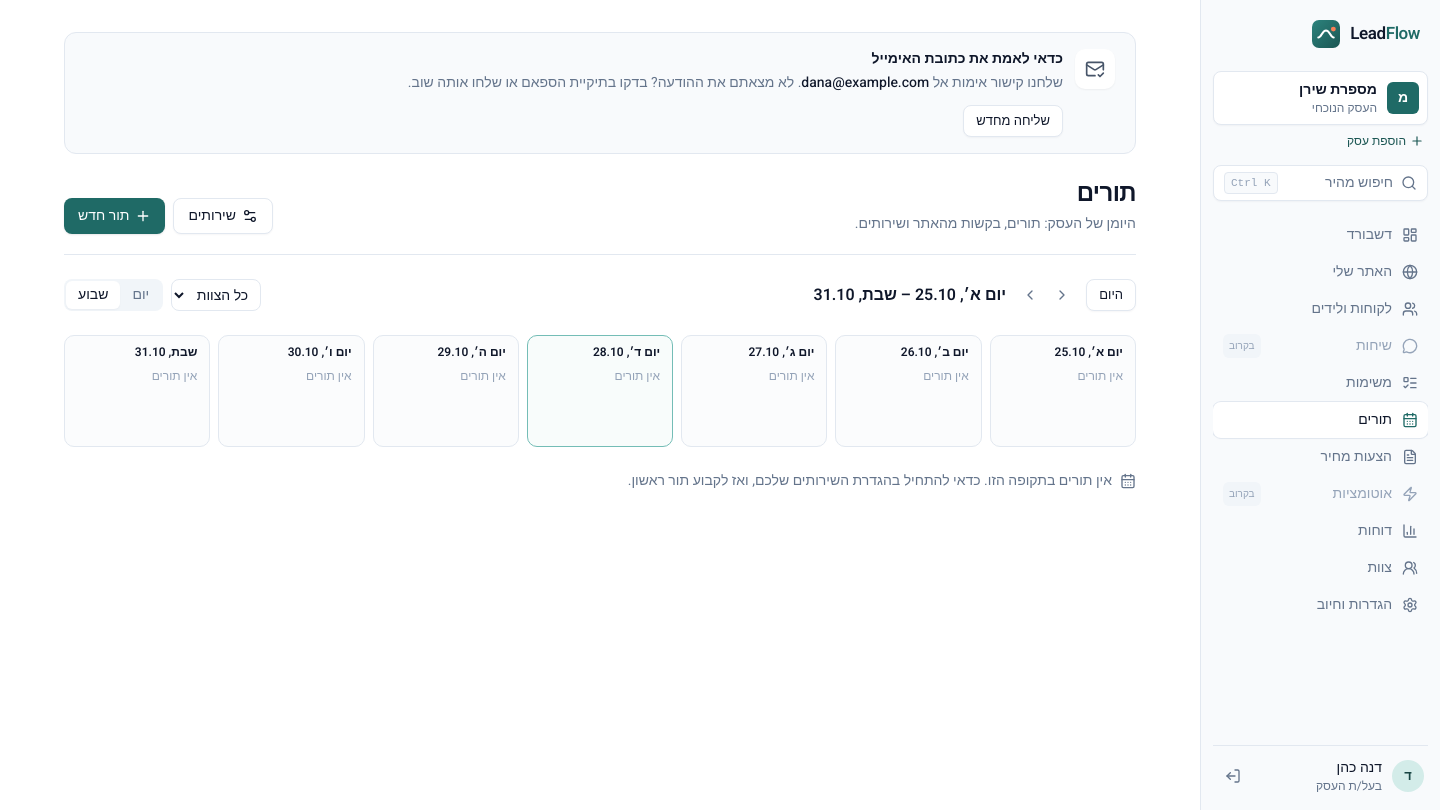
Test case: appointments page › a clash keeps the dialog open with the server message
Click the button "תור חדש" at (115, 216), box top-left (64, 198), bottom-right (166, 234)
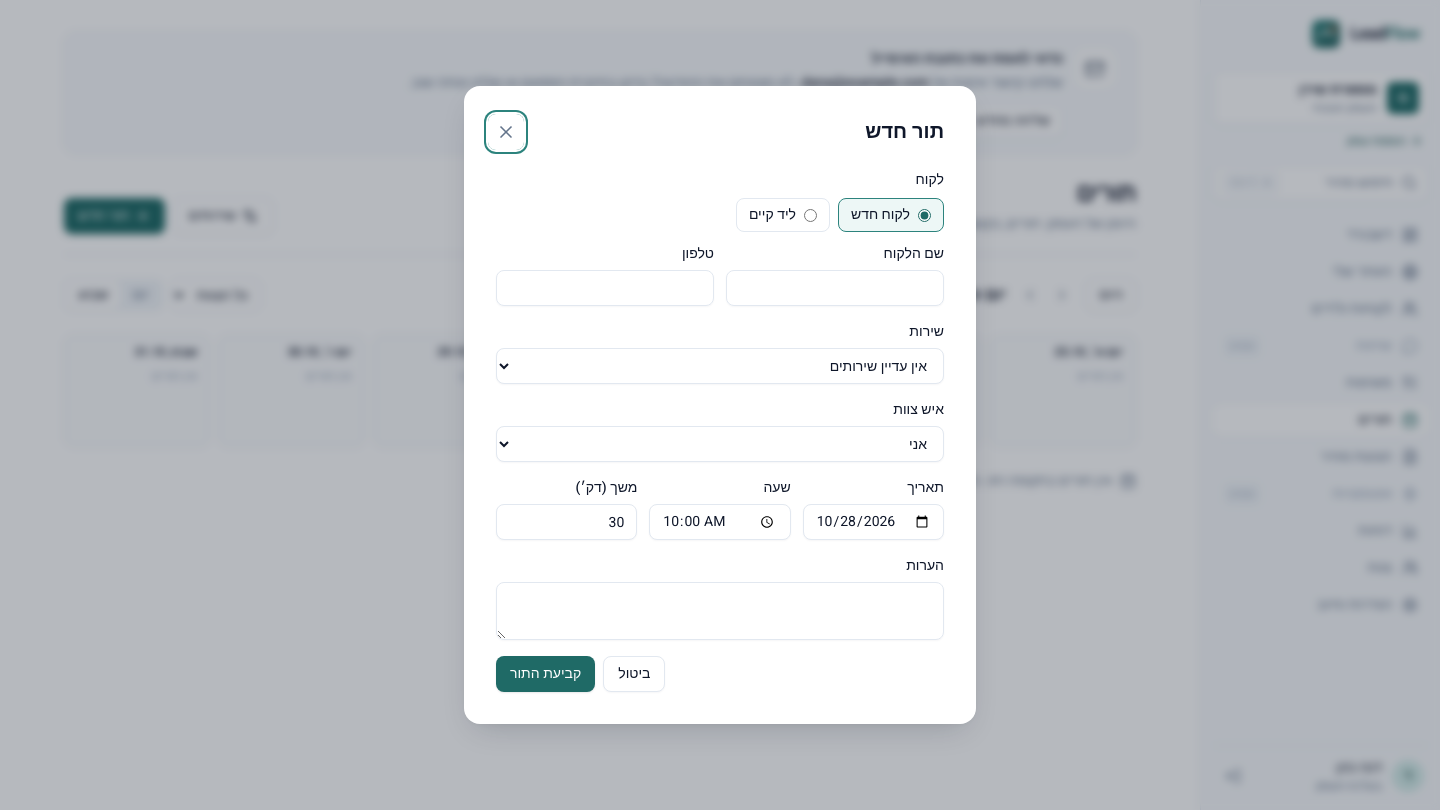
Type "רון לוי" into the field labelled "שם הלקוח" at (835, 288), box top-left (726, 270), bottom-right (944, 306)
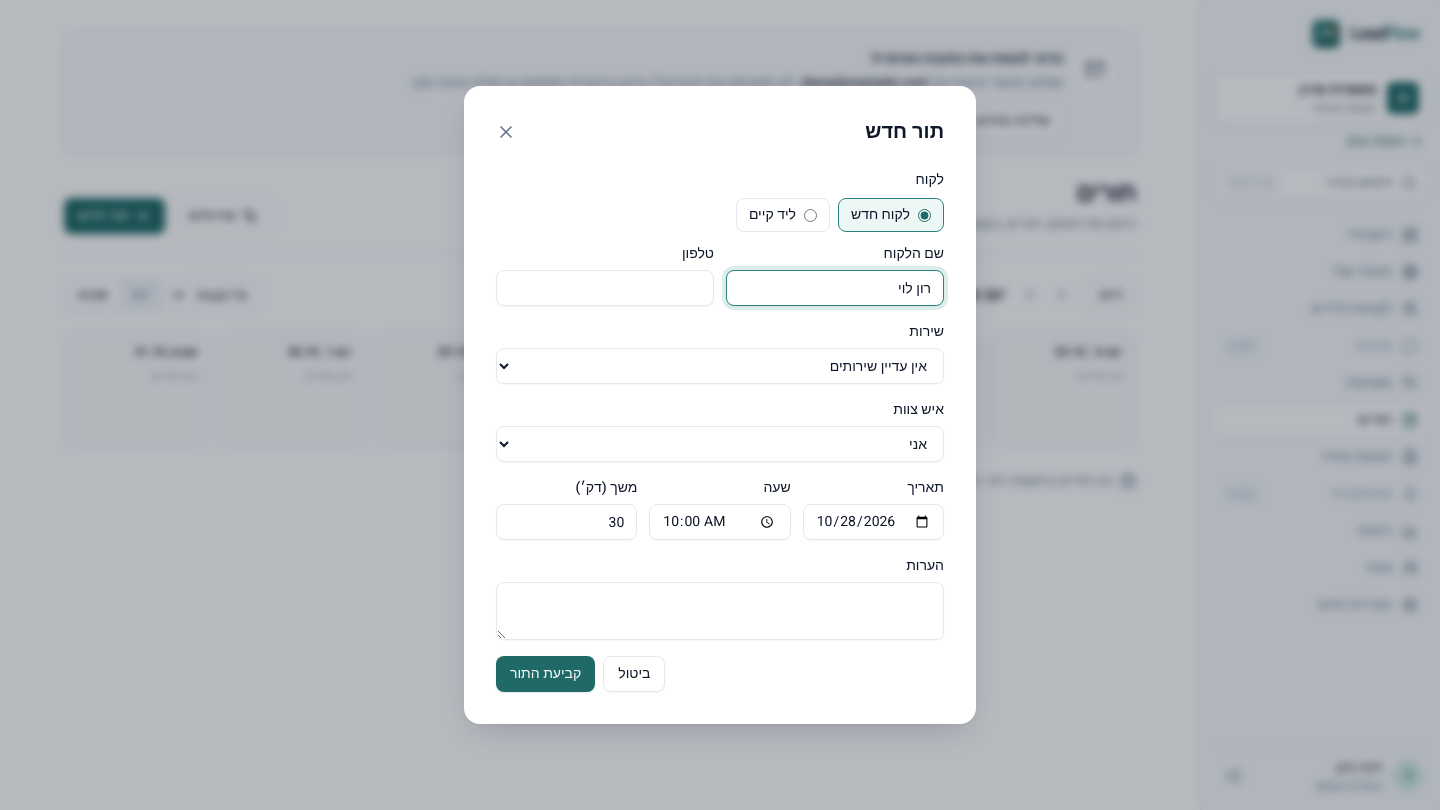
Type "052-1112233" into the field labelled "טלפון" at (605, 288), box top-left (496, 270), bottom-right (714, 306)
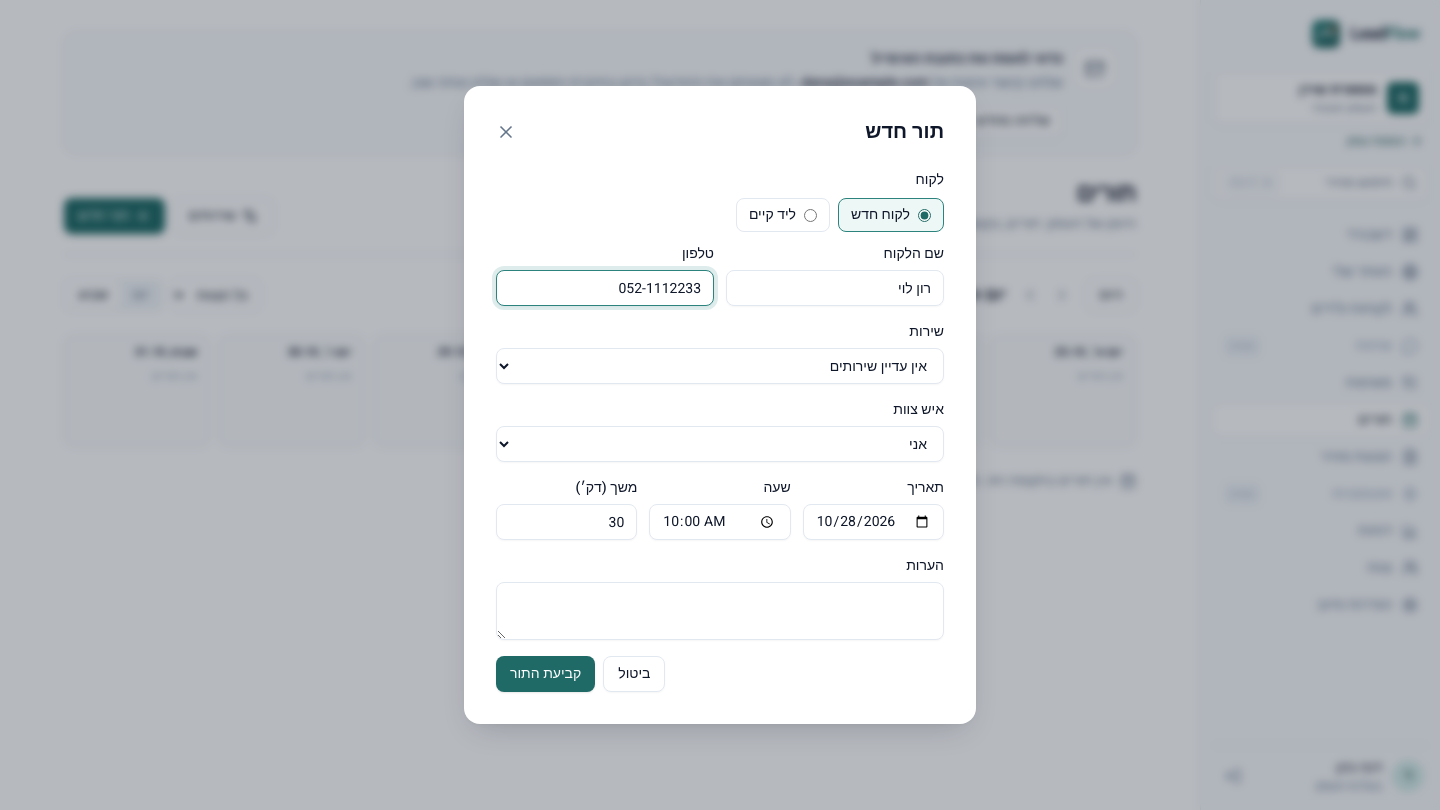
Click the button "קביעת התור" at (546, 674), box top-left (496, 656), bottom-right (595, 692)
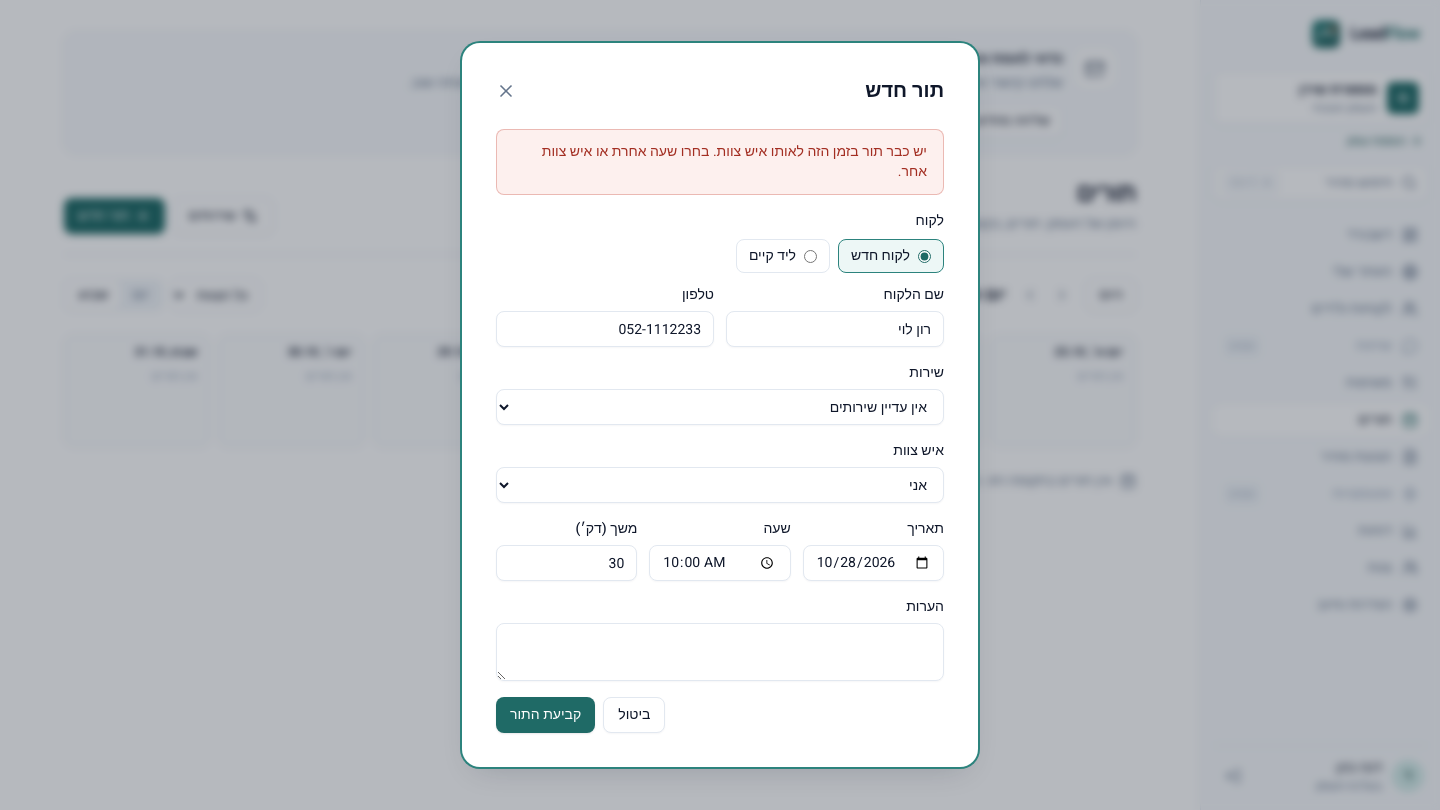
Check: the text "יש כבר תור בזמן הזה" is shown, box top-left (542, 141), bottom-right (927, 182)
